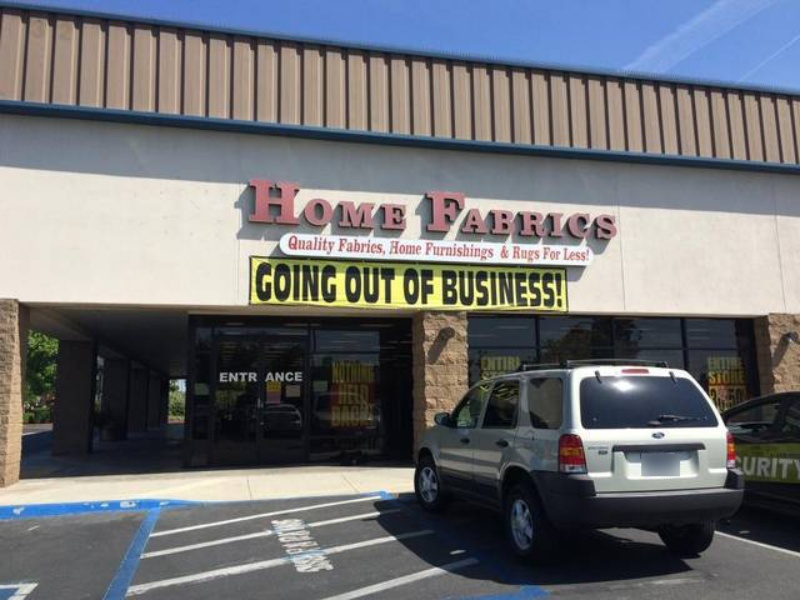text: (273, 517, 288, 576), (289, 517, 304, 576), (305, 517, 320, 576), (321, 517, 336, 576), (257, 178, 272, 231), (273, 178, 288, 231), (289, 178, 304, 231), (305, 178, 320, 231), (321, 178, 336, 231), (337, 178, 352, 231), (353, 178, 368, 231), (369, 178, 384, 231), (385, 178, 400, 231), (433, 191, 448, 241), (449, 191, 464, 241), (465, 191, 480, 241), (481, 191, 496, 241), (497, 191, 512, 241), (513, 191, 528, 241), (529, 191, 544, 241), (545, 191, 560, 241), (561, 191, 576, 241), (577, 191, 592, 241), (593, 191, 608, 241), (321, 261, 337, 303), (257, 261, 272, 303), (273, 261, 288, 303), (289, 261, 304, 303), (305, 261, 320, 303), (353, 266, 368, 304), (369, 266, 384, 304), (417, 268, 432, 306), (449, 269, 464, 307), (465, 269, 480, 307), (481, 269, 496, 307), (497, 269, 512, 307), (513, 269, 528, 307), (529, 269, 544, 307), (545, 269, 560, 307), (403, 268, 416, 306), (248, 178, 256, 231), (385, 266, 396, 304), (609, 191, 617, 241), (753, 456, 768, 481), (769, 456, 784, 481), (721, 387, 736, 412), (337, 406, 352, 431), (353, 406, 368, 431), (337, 359, 352, 384), (353, 359, 368, 384), (401, 178, 408, 231), (337, 383, 352, 407), (353, 383, 368, 407), (289, 234, 304, 256), (305, 234, 320, 256), (321, 234, 336, 256), (344, 266, 352, 304), (426, 191, 432, 241), (433, 242, 448, 262), (449, 242, 464, 262), (465, 242, 480, 262), (481, 242, 496, 262), (708, 387, 720, 412), (353, 238, 368, 257), (369, 238, 384, 257), (497, 243, 512, 261), (338, 238, 352, 257), (441, 269, 448, 307), (577, 248, 593, 264), (513, 246, 528, 263), (481, 356, 496, 373), (497, 356, 512, 373), (369, 406, 379, 431), (721, 371, 736, 387), (268, 517, 272, 576), (401, 241, 416, 256), (545, 247, 560, 262), (743, 456, 752, 481), (785, 456, 794, 481), (721, 357, 736, 372), (529, 246, 542, 263), (563, 248, 576, 264), (707, 371, 720, 387), (369, 359, 377, 384), (707, 357, 720, 372), (225, 371, 240, 383), (241, 371, 256, 383), (737, 371, 748, 387), (737, 387, 744, 412), (329, 383, 336, 407), (389, 241, 400, 256), (273, 372, 288, 383), (424, 242, 432, 262), (289, 372, 303, 383), (513, 356, 521, 373), (737, 357, 746, 372), (331, 406, 336, 431), (331, 359, 336, 384), (417, 241, 423, 256), (264, 372, 272, 383), (254, 261, 256, 303), (561, 269, 563, 307), (369, 383, 372, 407), (219, 371, 224, 383), (385, 238, 387, 257), (433, 268, 434, 306), (479, 356, 480, 373), (543, 247, 544, 262), (561, 247, 562, 262), (257, 371, 258, 383)
